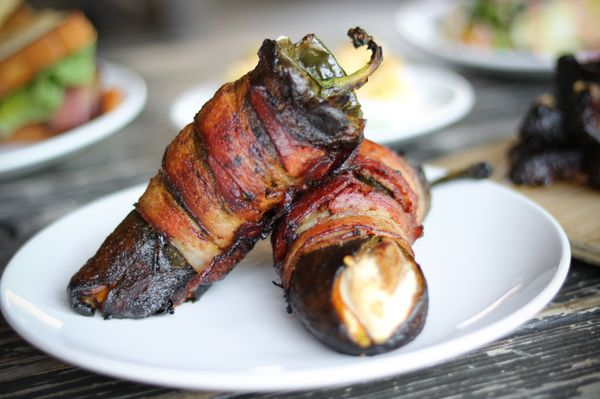soup: (0, 3, 101, 145)
